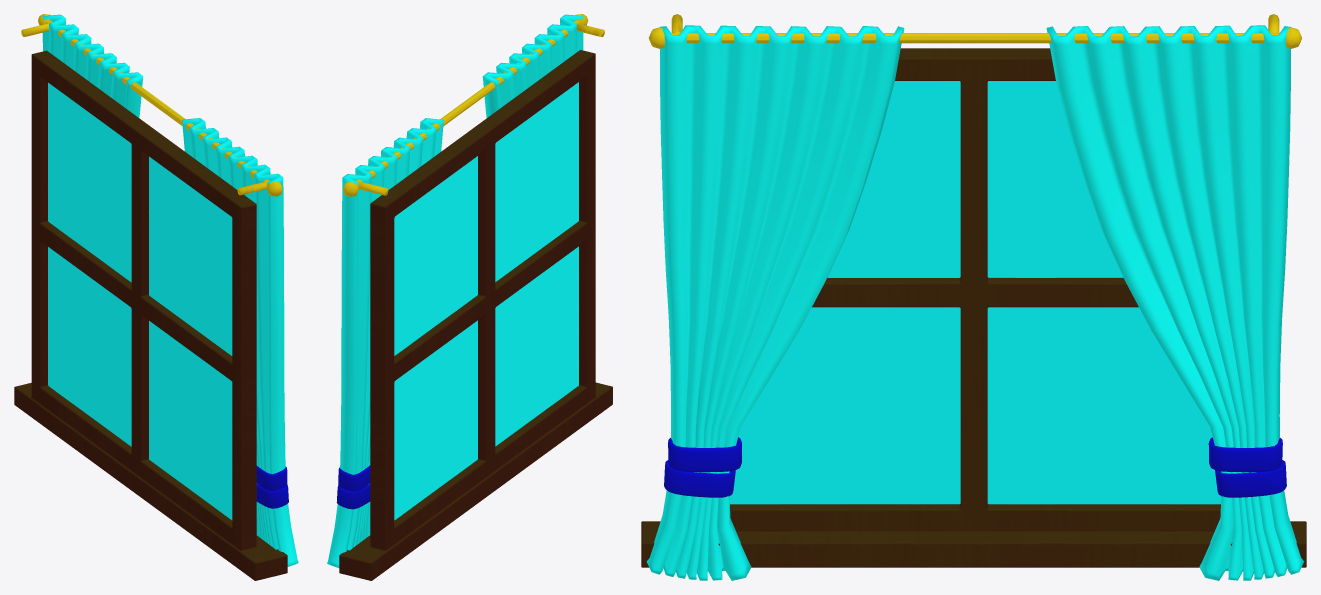
Rendered from window.glb.
The picture shows the model from 3 angles, left to right: view 1: azimuth 30°, elevation 25°; view 2: azimuth 150°, elevation 25°; view 3: azimuth 270°, elevation 25°; orthographic projection. The views are drawn at different scales.
Parts seen in each view (by area): view 1: room3_window, room3_curtain; view 2: room3_window, room3_curtain; view 3: room3_window, room3_curtain.
Boxes of the visible parts, box(x1,y1,x2,y2) form: room3_window: box(14, 50, 287, 580); room3_curtain: box(21, 14, 298, 566); room3_window: box(339, 50, 612, 580); room3_curtain: box(327, 14, 604, 567); room3_window: box(641, 48, 1306, 567); room3_curtain: box(646, 14, 1304, 580).
Bounding box in the file's own units: 0.8038 × 5.83 × 6.52.
2 materials, 2 textured.
